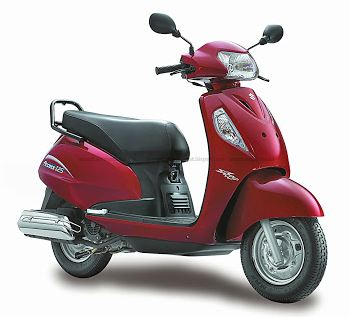bike: (16, 11, 328, 304)
